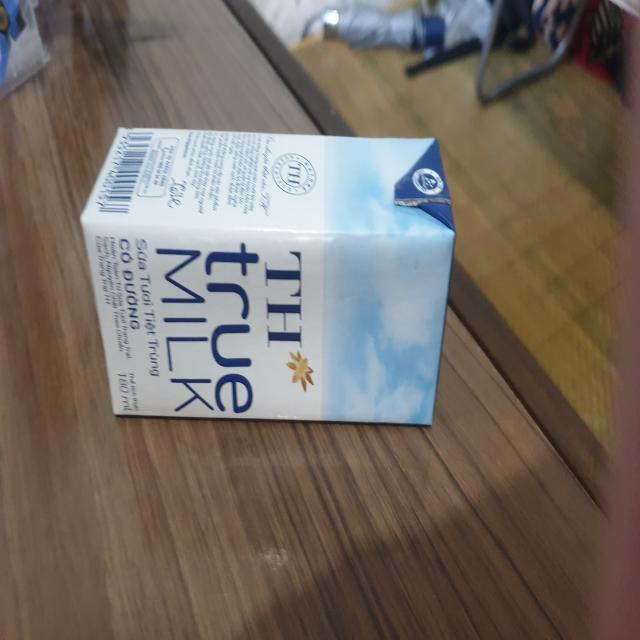TH: (82, 125, 456, 426)
